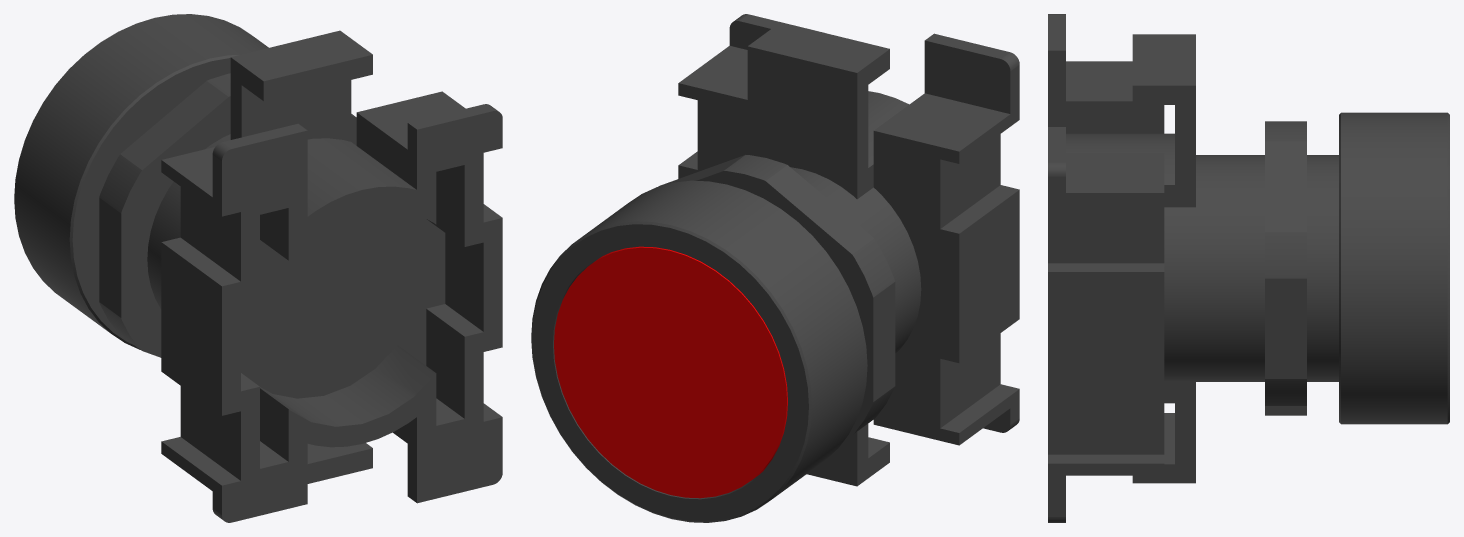
The model's file is METALWORK-W0351000011.dae.
3 views of the same model, side by side, from view 1: azimuth 30°, elevation 25°; view 2: azimuth 150°, elevation 25°; view 3: azimuth 270°, elevation 25° (orthographic). The views are drawn at different scales.
Visible parts, largest first — view 1: _W035100001110000003_0; view 2: _W035100001110000003_0; view 3: _W035100001110000003_0.
Boxes of the visible parts, x1,y1,x2,y2 form: _W035100001110000003_0: (14, 14, 502, 522); _W035100001110000003_0: (531, 14, 1019, 522); _W035100001110000003_0: (1048, 14, 1449, 522).
Size of the model in its own units: 29.5 by 41.8 by 38.
